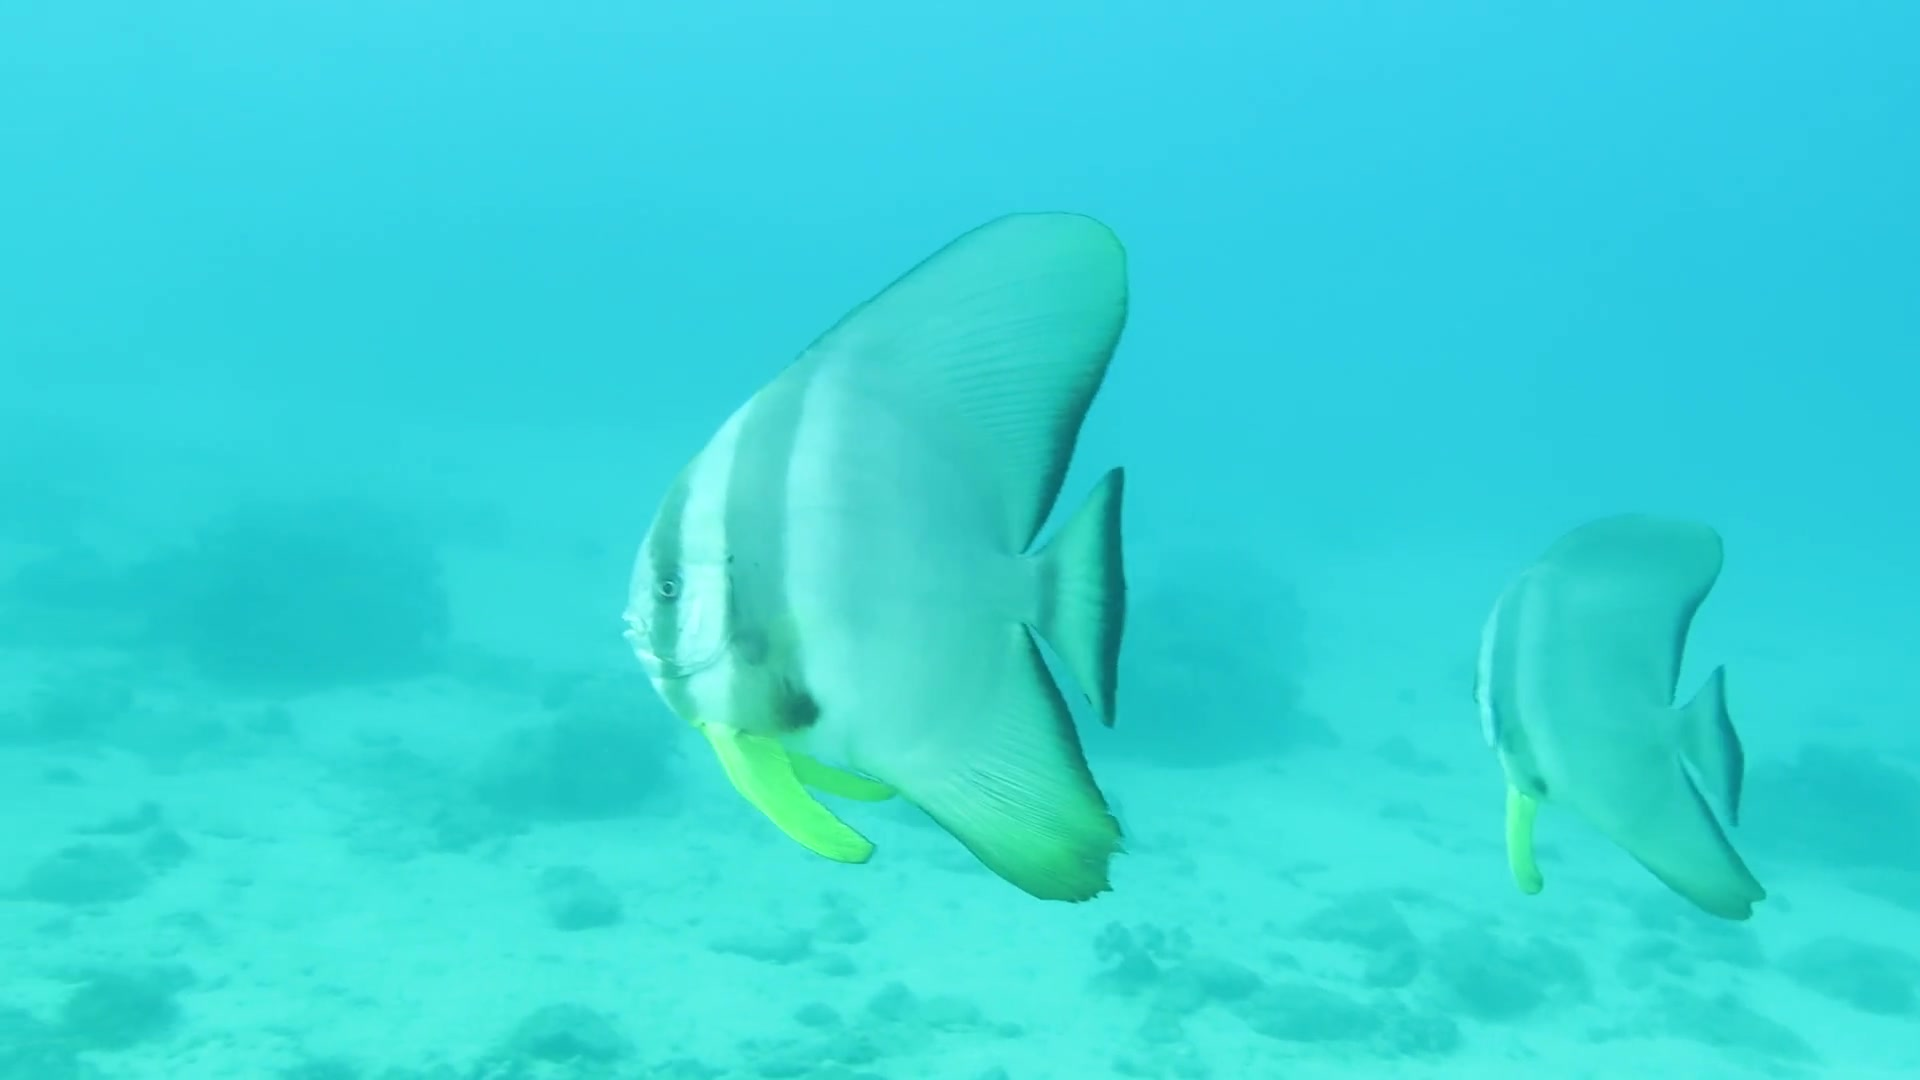Platax teira: (584, 215, 1240, 936), (1350, 444, 1871, 967)
